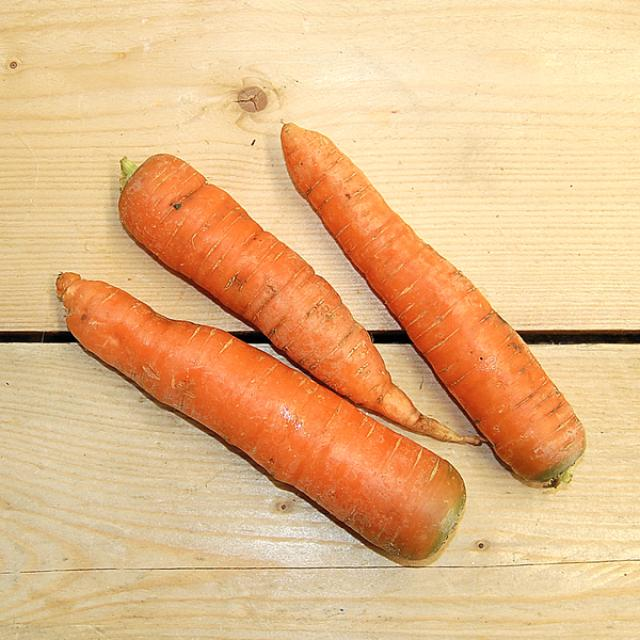Carrot: (51, 266, 462, 574), (106, 148, 484, 448), (287, 119, 595, 487)
